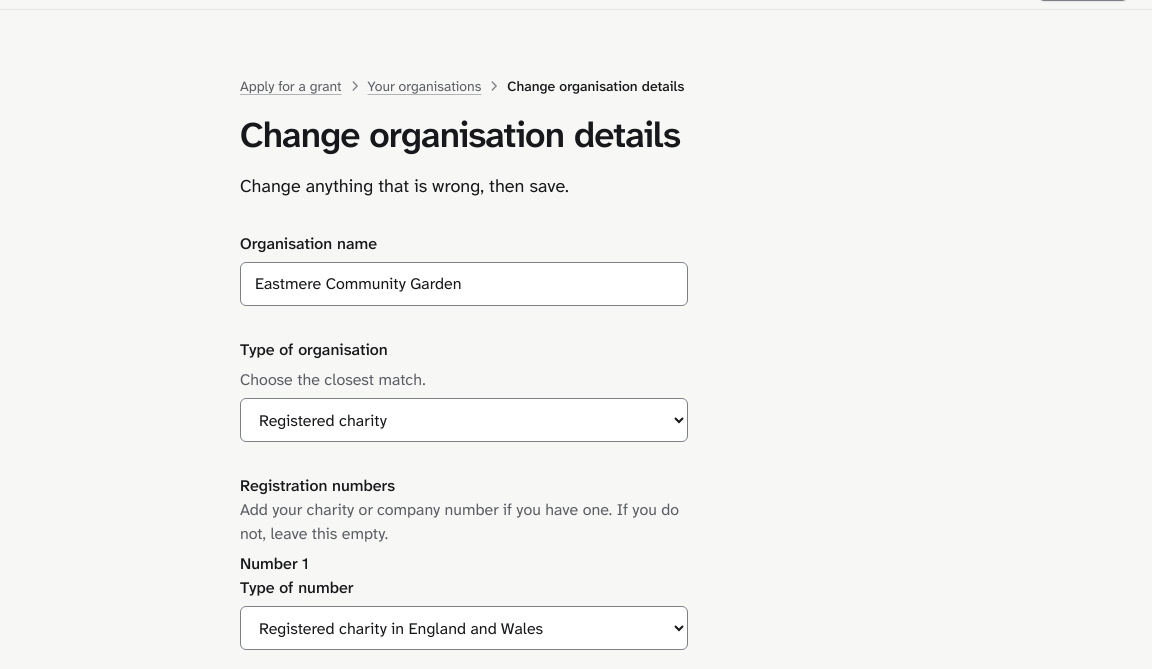
Test case: changing an organisation › shows what is saved, with its numbers, and saves a change
Expected: the dropdown labelled "Type of organisation" shows "Registered charity", 240,398 -> 688,442
Expected: the dropdown labelled "Type of number" shows "Registered charity in England and Wales", 240,606 -> 688,650
Replace the text in the field labelled "Organisation name" with "Eastmere Garden Trust" at (464, 284), box 240,262 -> 688,306
(page scrolled)
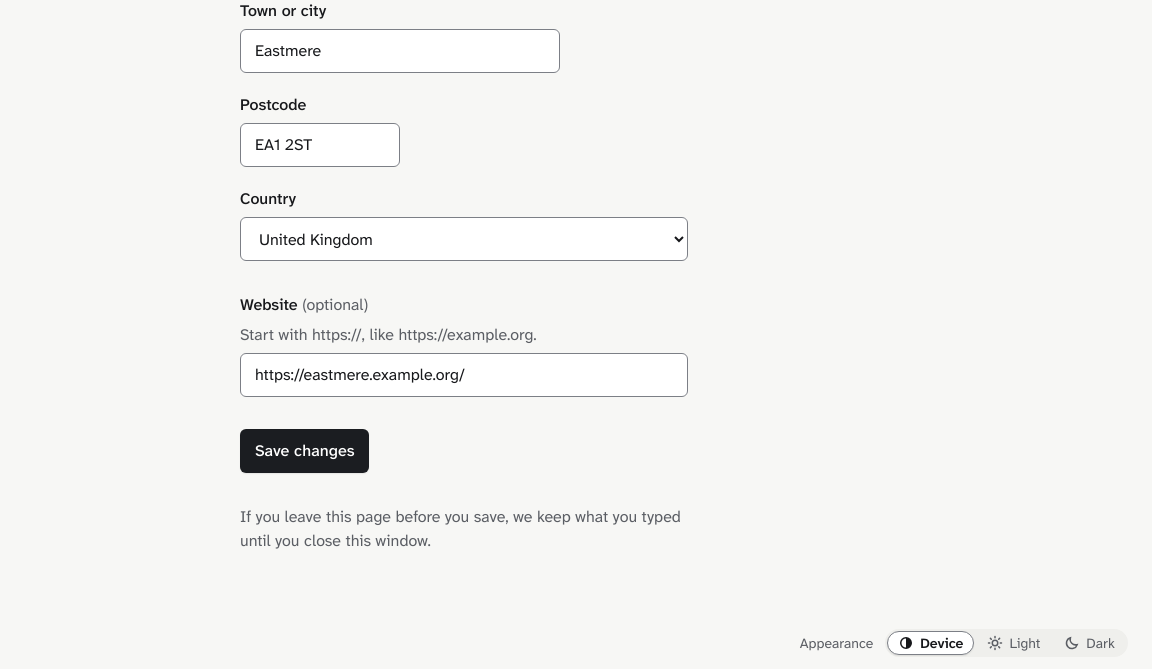
Click the button "Save changes" at (305, 451), box 240,429 -> 370,473
(page scrolled)
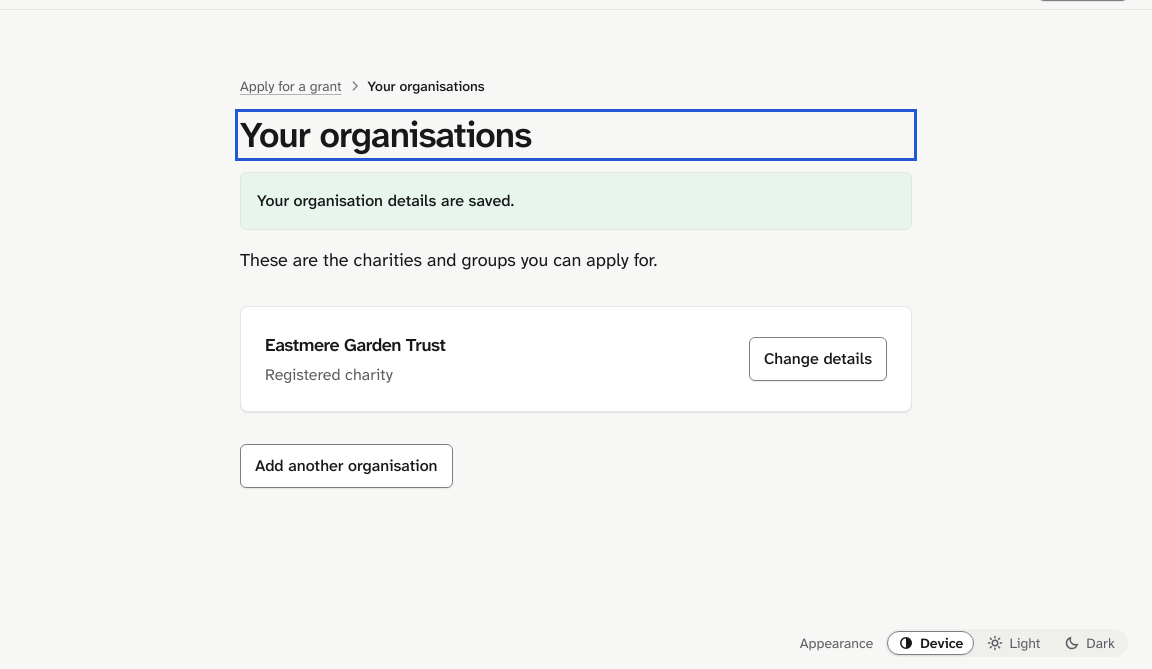
Expected: the text "Your organisation details are saved." is shown, 240,172 -> 912,230
